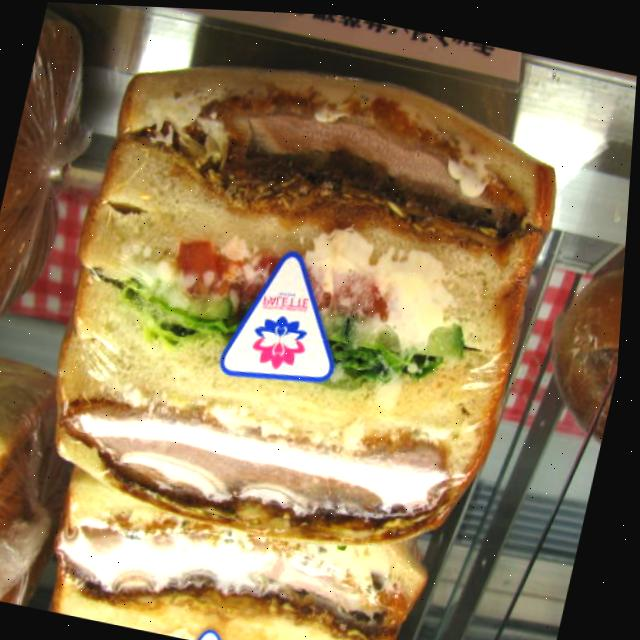三明治: (40, 42, 562, 549)
